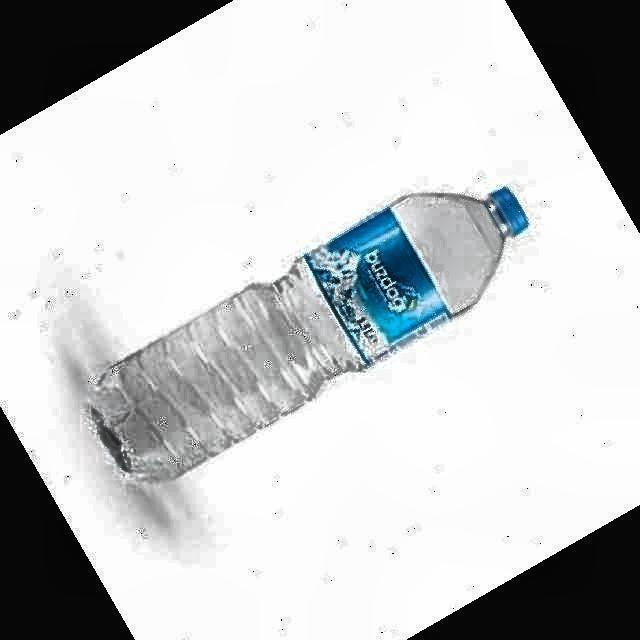plastic: (91, 188, 529, 479)
